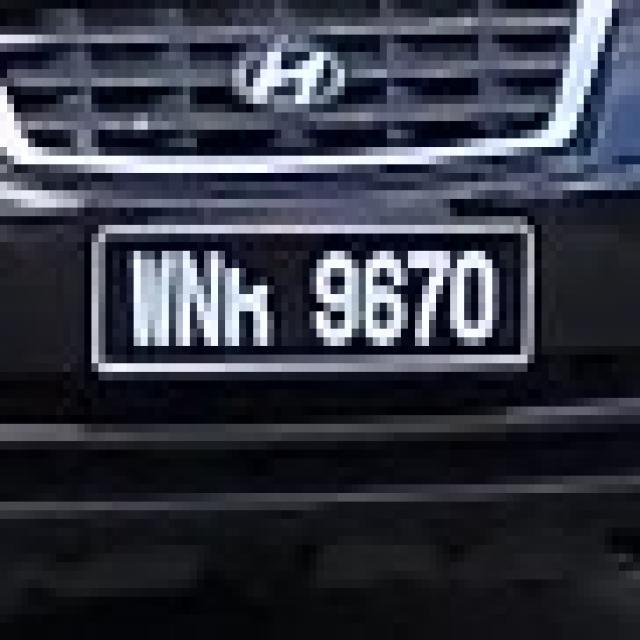License_Plate: (41, 194, 605, 404)
